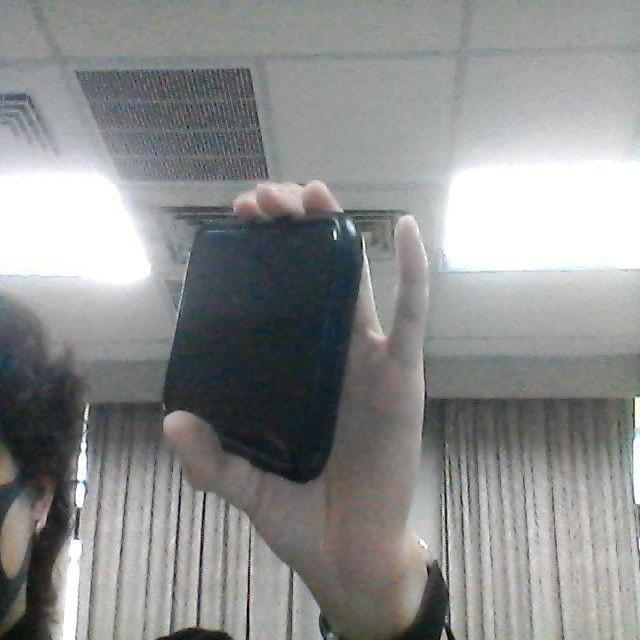phone: (158, 197, 367, 488)
